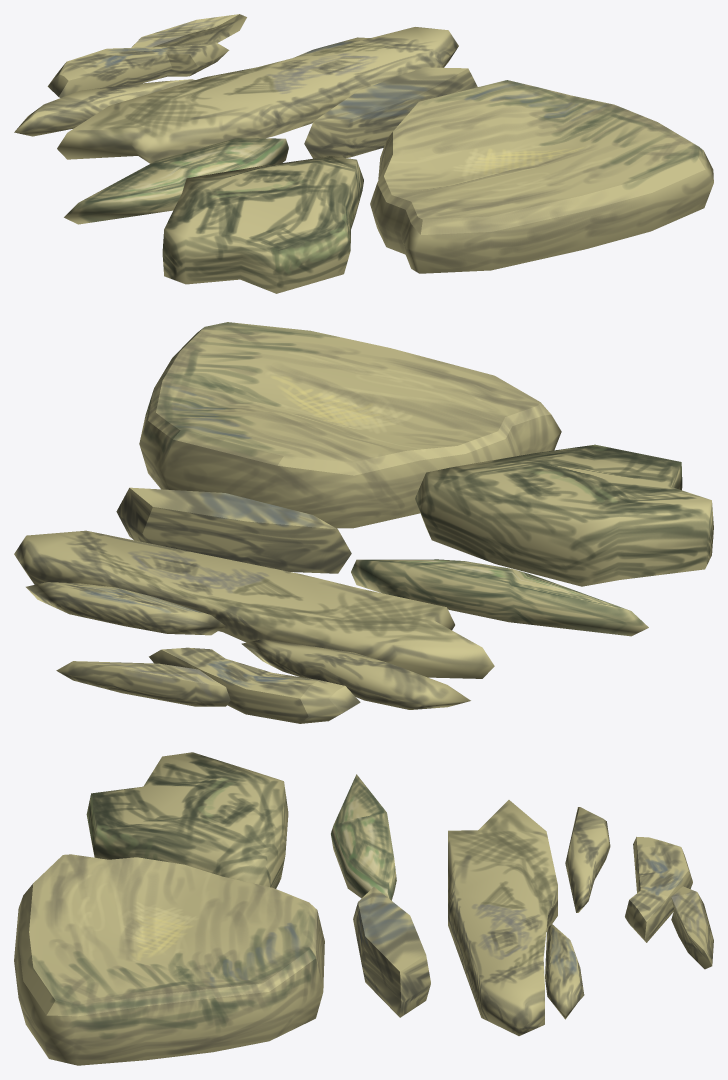
File: RockStairs001.fbx
3 views of the same model, one above another, from view 1: azimuth 30°, elevation 25°; view 2: azimuth 150°, elevation 25°; view 3: azimuth 270°, elevation 25° (orthographic). The views are drawn at different scales.
Visible parts, largest first — view 1: RockStair001_Rock01, RockStair001_Rock05, RockStair001_Rock02, RockStair001_Rock04, RockStair001_Rock03, RockStair001_Rock08, RockStair001_Rock07, RockStair001_Rock09; view 2: RockStair001_Rock01, RockStair001_Rock02, RockStair001_Rock05, RockStair001_Rock03, RockStair001_Rock04, RockStair001_Rock08, RockStair001_Rock07, RockStair001_Rock06, RockStair001_Rock09; view 3: RockStair001_Rock01, RockStair001_Rock05, RockStair001_Rock02, RockStair001_Rock03, RockStair001_Rock04, RockStair001_Rock08, RockStair001_Rock07, RockStair001_Rock06, RockStair001_Rock09.
Part boxes in pixels (box(x1,y1,x2,y2)): RockStair001_Rock01: box(370, 80, 713, 273); RockStair001_Rock05: box(57, 27, 458, 163); RockStair001_Rock02: box(162, 156, 363, 293); RockStair001_Rock04: box(64, 137, 288, 224); RockStair001_Rock03: box(304, 67, 477, 158); RockStair001_Rock08: box(47, 43, 229, 97); RockStair001_Rock07: box(14, 79, 194, 136); RockStair001_Rock09: box(131, 14, 246, 47); RockStair001_Rock01: box(139, 322, 561, 528); RockStair001_Rock02: box(415, 444, 713, 586); RockStair001_Rock05: box(14, 530, 494, 678); RockStair001_Rock03: box(116, 487, 351, 573); RockStair001_Rock04: box(351, 559, 648, 636); RockStair001_Rock08: box(149, 647, 360, 723); RockStair001_Rock07: box(241, 639, 470, 709); RockStair001_Rock06: box(26, 582, 225, 635); RockStair001_Rock09: box(56, 661, 230, 706); RockStair001_Rock01: box(14, 854, 324, 1065); RockStair001_Rock05: box(448, 800, 557, 1035); RockStair001_Rock02: box(86, 752, 288, 888); RockStair001_Rock03: box(353, 887, 430, 1017); RockStair001_Rock04: box(331, 774, 396, 900); RockStair001_Rock08: box(625, 836, 692, 942); RockStair001_Rock07: box(565, 807, 610, 912); RockStair001_Rock06: box(545, 924, 584, 1019); RockStair001_Rock09: box(671, 886, 713, 969).
Bounding box in the file's own units: 1.69 × 0.1892 × 1.79.
Materials: 1 (1 with a texture image).
